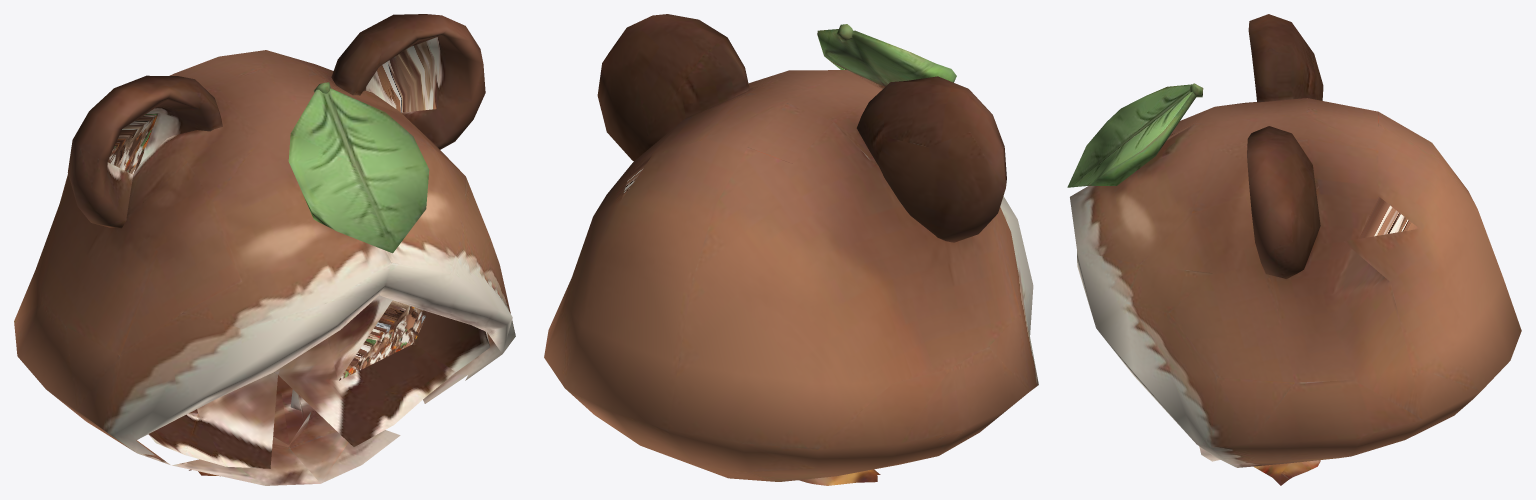
Rendered from leafbear_hood.glb.
3 renders of one model, left to right at view 1: azimuth 30°, elevation 25°; view 2: azimuth 150°, elevation 25°; view 3: azimuth 270°, elevation 25°, orthographic. The views are drawn at different scales.
Visible parts, largest first — view 1: Mesh_0; view 2: Mesh_0; view 3: Mesh_0.
Boxes of the visible parts, x1=… form: Mesh_0: x1=14, y1=14, x2=515, y2=485; Mesh_0: x1=544, y1=14, x2=1038, y2=485; Mesh_0: x1=1067, y1=14, x2=1521, y2=485.
Bounding box in the file's own units: 0.3712 × 0.3283 × 0.3725.
Materials: 1 (1 with a texture image).
